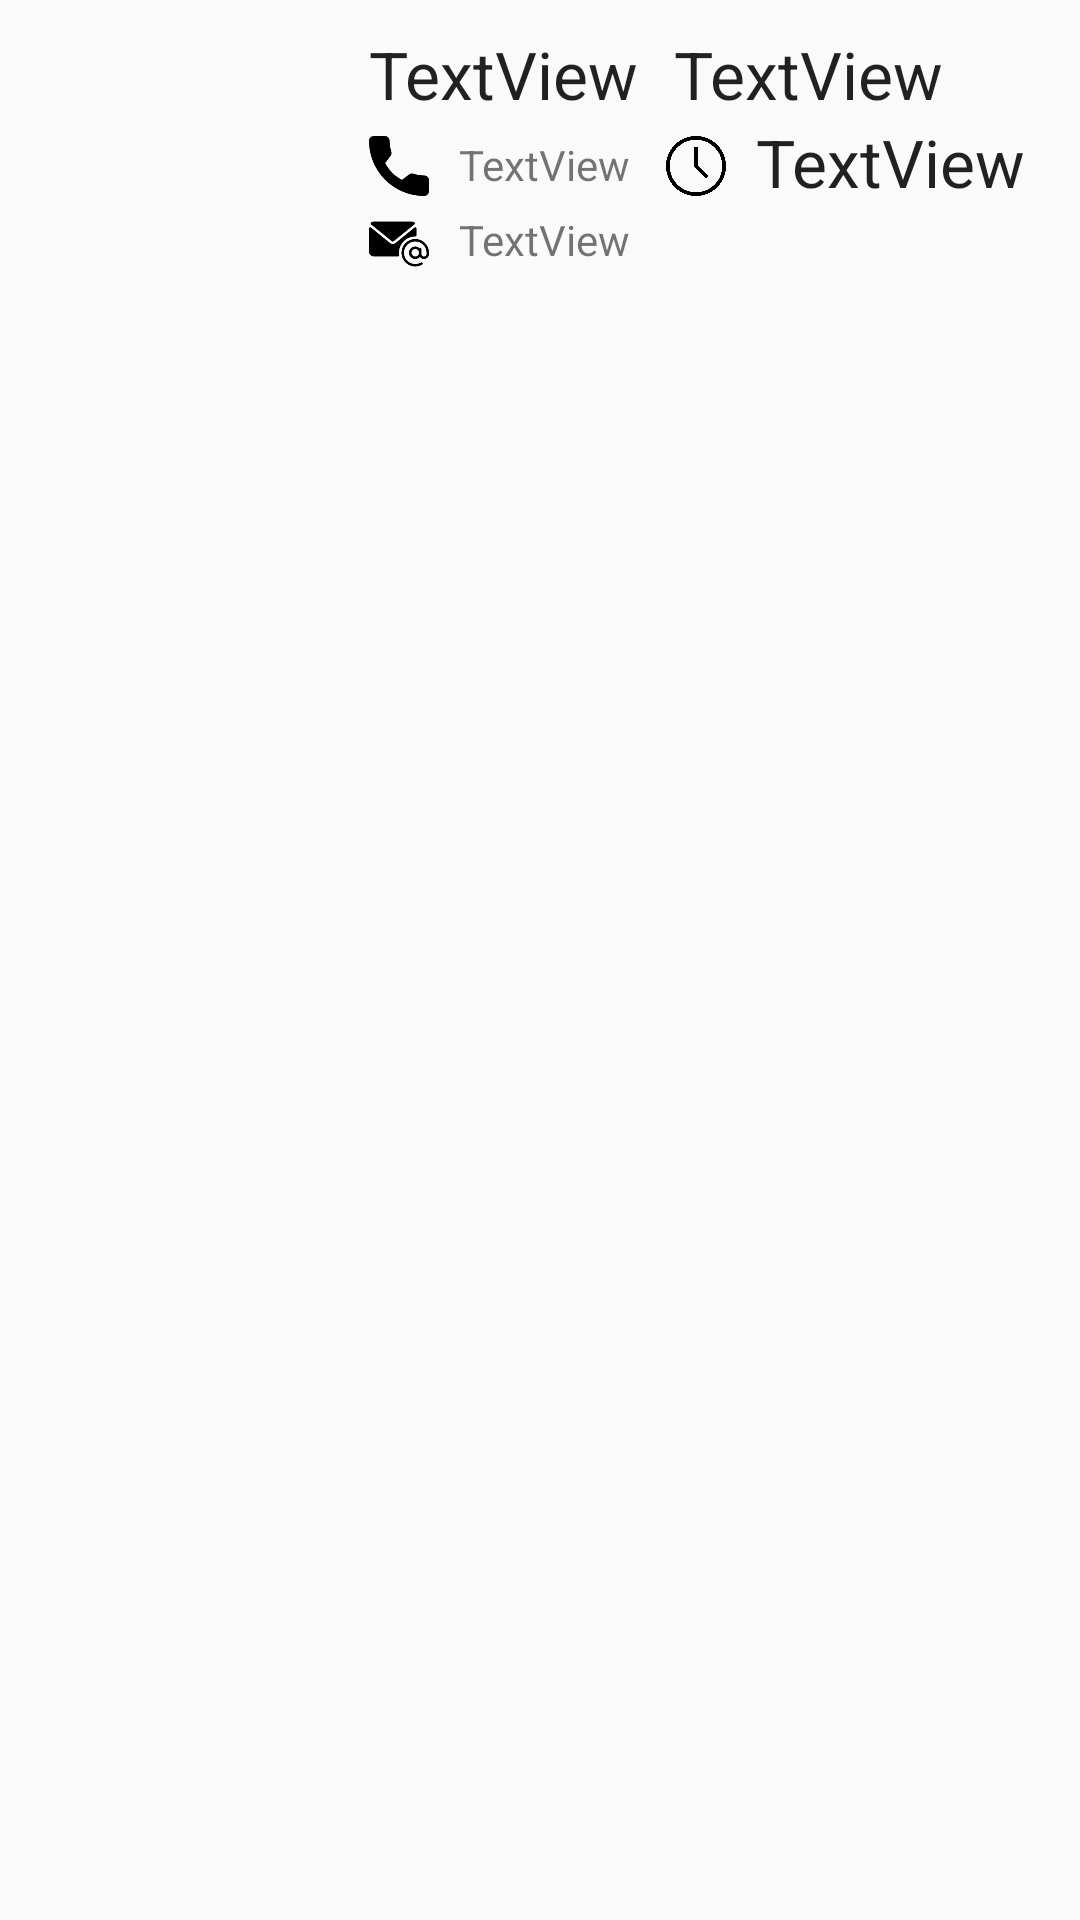

Screen size 1080×1920. Icon name, then its center in pixels as (x,y):
email: (399,244)
phone: (399,166)
time: (696,166)
